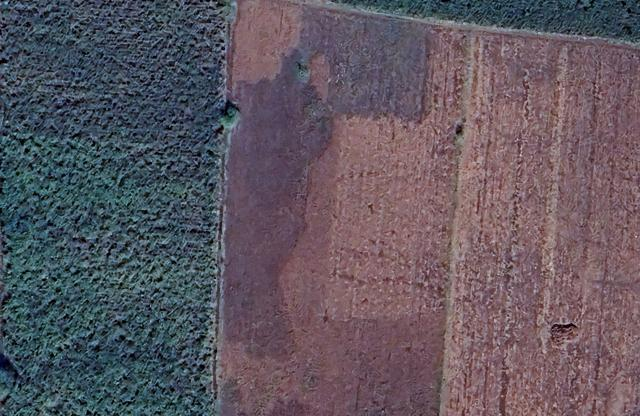Farms: (215, 0, 467, 415), (0, 0, 233, 416), (439, 25, 640, 416)
